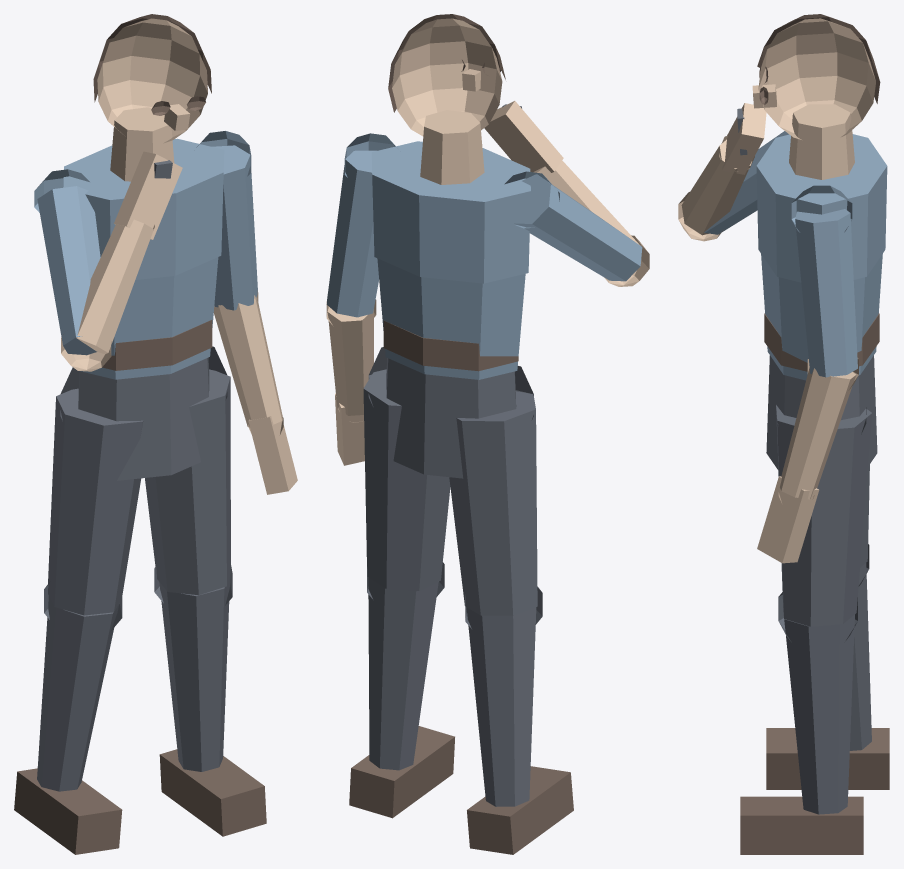
Rendered from low-poly-character-figures-civilian-on-phone-57698df1.glb.
3 views of the same model, side by side, from view 1: azimuth 30°, elevation 25°; view 2: azimuth 150°, elevation 25°; view 3: azimuth 270°, elevation 25° (orthographic).
Visible parts, largest first — view 1: civilian-on-phone; view 2: civilian-on-phone; view 3: civilian-on-phone.
Boxes of the visible parts, left/top/right/bottom form: civilian-on-phone: left=14, top=14, right=297, bottom=854; civilian-on-phone: left=326, top=14, right=649, bottom=854; civilian-on-phone: left=678, top=14, right=889, bottom=854.
Size of the model in its own units: 0.6241 by 1.76 by 0.4193.
